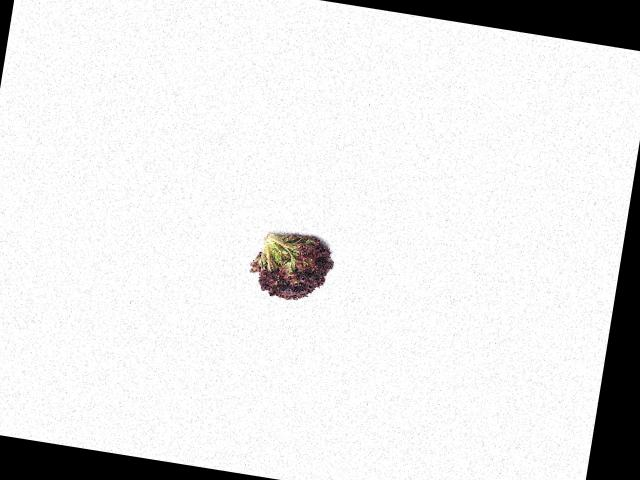lettuce: (249, 223, 341, 309)
